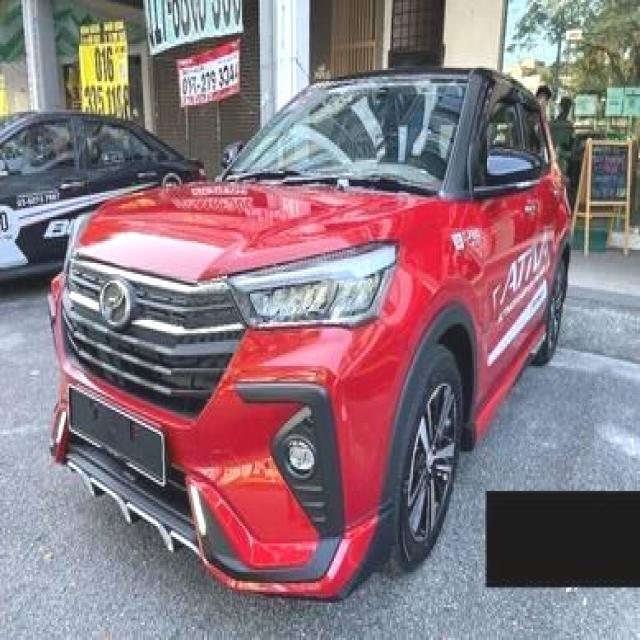PeroduaAtiva: (45, 63, 574, 602)
